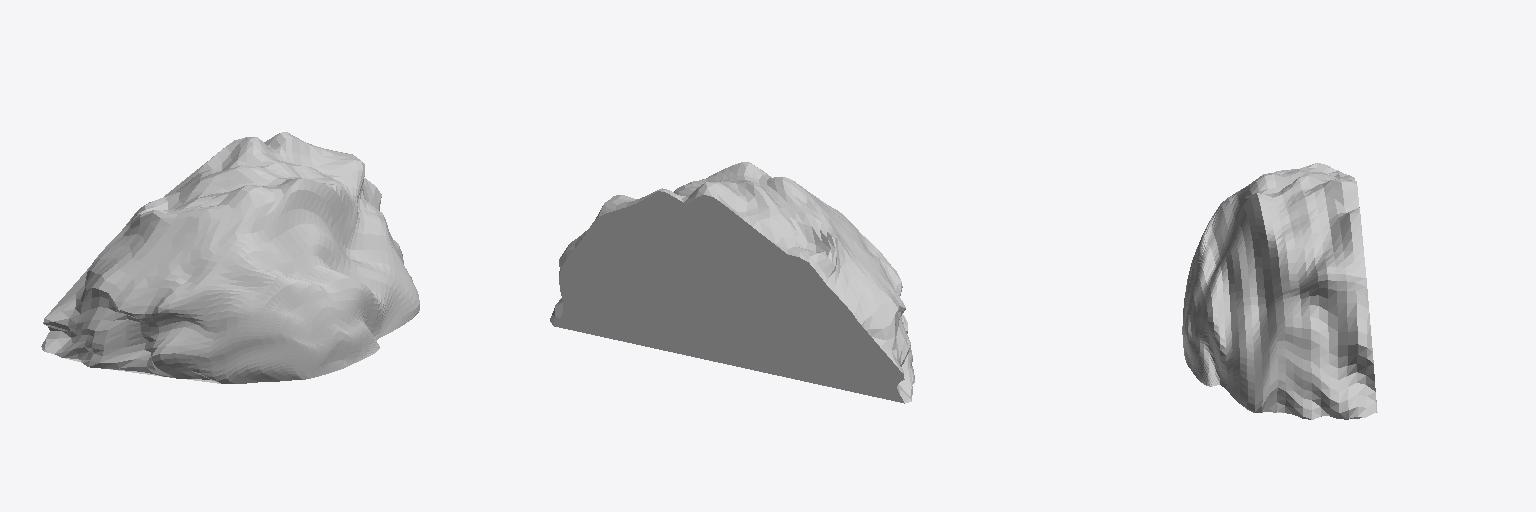
File: Asteroid2quad4.obj
3 renders of one model, left to right at view 1: azimuth 30°, elevation 25°; view 2: azimuth 150°, elevation 25°; view 3: azimuth 270°, elevation 25°, orthographic.
Visible parts, largest first — view 1: asteroid2; view 2: asteroid2; view 3: asteroid2.
Part boxes in pixels (left/top/right/bottom): asteroid2: left=41, top=132, right=419, bottom=383; asteroid2: left=550, top=162, right=914, bottom=403; asteroid2: left=1182, top=163, right=1377, bottom=419.
Bounding box in the file's own units: 2.5 × 1.19 × 1.18.